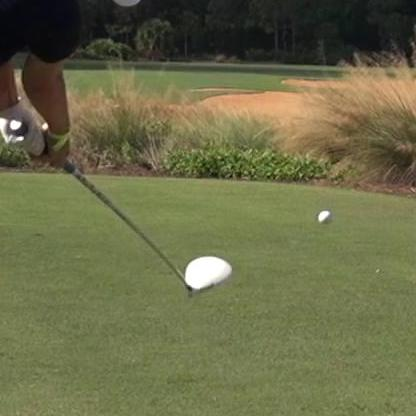golfball: (316, 207, 331, 223)
